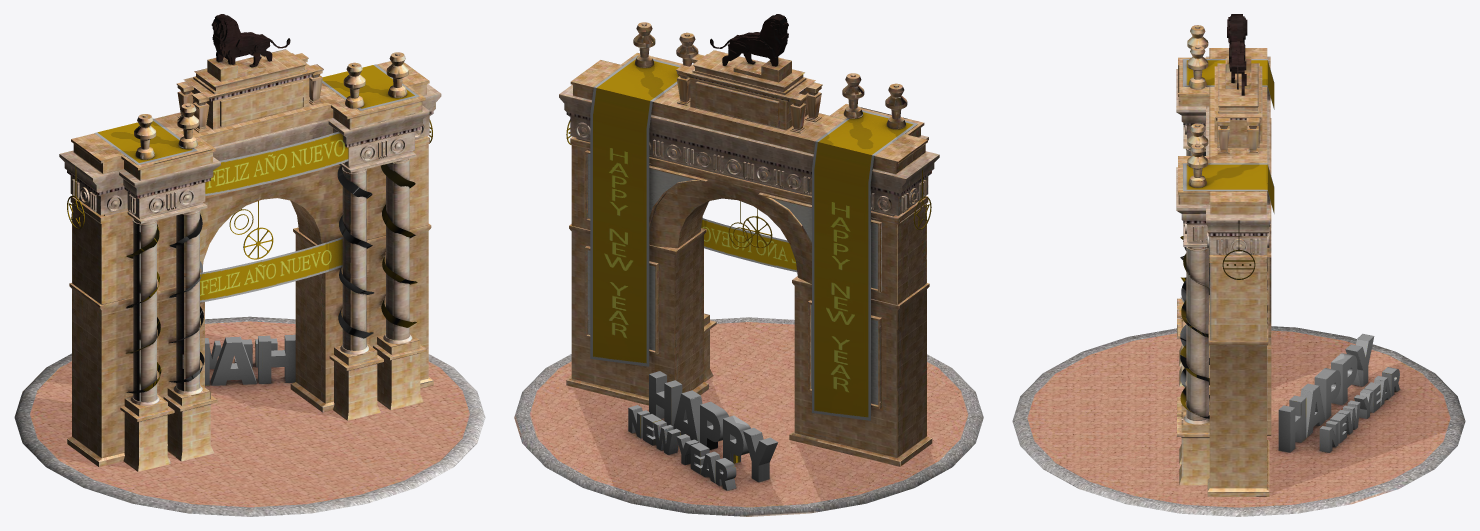
The model's file is arco-mexico.gltf.
3 views of the same model, side by side, from view 1: azimuth 30°, elevation 25°; view 2: azimuth 150°, elevation 25°; view 3: azimuth 270°, elevation 25° (orthographic). The views are drawn at different scales.
Parts seen in each view (by area): view 1: HNY_BaseArco, HNY_SkinArco, OG_BaseLeon; view 2: HNY_BaseArco, HNY_SkinArco, OG_BaseLeon; view 3: HNY_BaseArco, HNY_SkinArco, OG_BaseLeon.
Part boxes in pixels (x1=…): HNY_BaseArco: x1=14, y1=49, x2=485, y2=516; HNY_SkinArco: x1=67, y1=64, x2=432, y2=393; OG_BaseLeon: x1=211, y1=14, x2=290, y2=67; HNY_BaseArco: x1=514, y1=22, x2=983, y2=516; HNY_SkinArco: x1=566, y1=55, x2=931, y2=490; OG_BaseLeon: x1=710, y1=14, x2=788, y2=66; HNY_BaseArco: x1=1012, y1=25, x2=1465, y2=516; HNY_SkinArco: x1=1180, y1=59, x2=1399, y2=452; OG_BaseLeon: x1=1227, y1=14, x2=1247, y2=95.
Bounding box in the file's own units: 0.412 × 0.3944 × 0.412.
3 materials, 3 textured.
